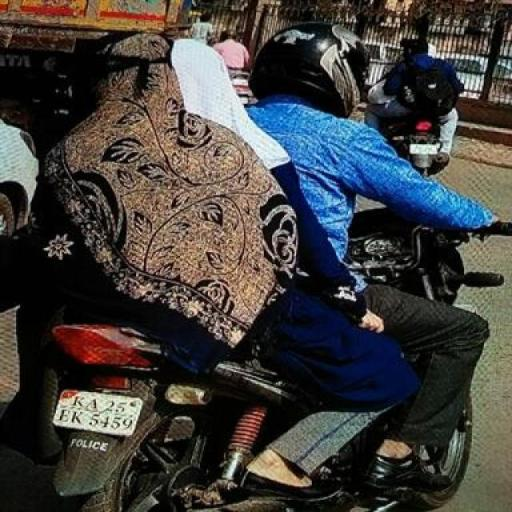tripple riding: (11, 18, 411, 321)
